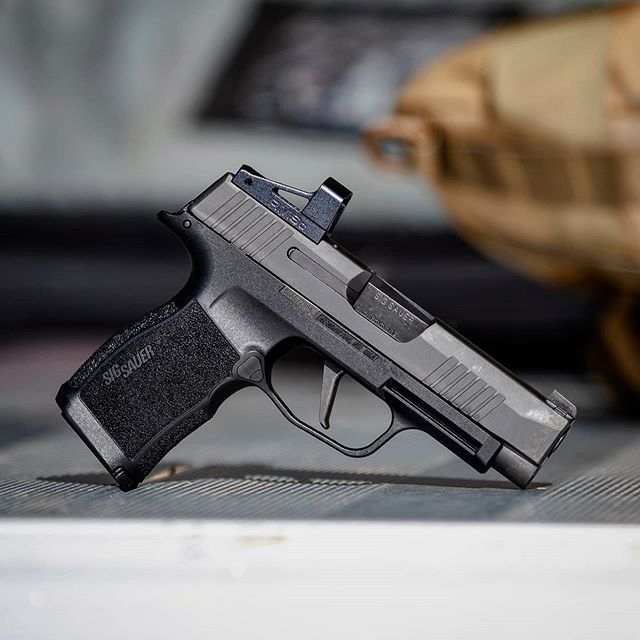SILAH: (65, 144, 581, 507)
